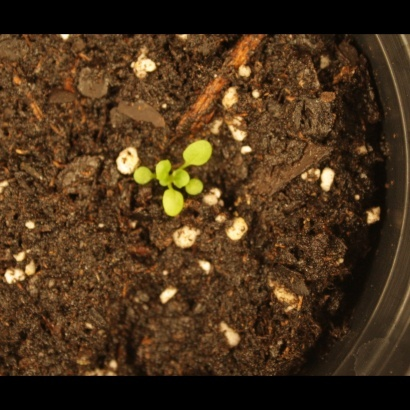leaf: (183, 139, 216, 170), (159, 188, 187, 220), (152, 159, 175, 186), (188, 176, 211, 199), (133, 165, 156, 188), (172, 168, 195, 191)
